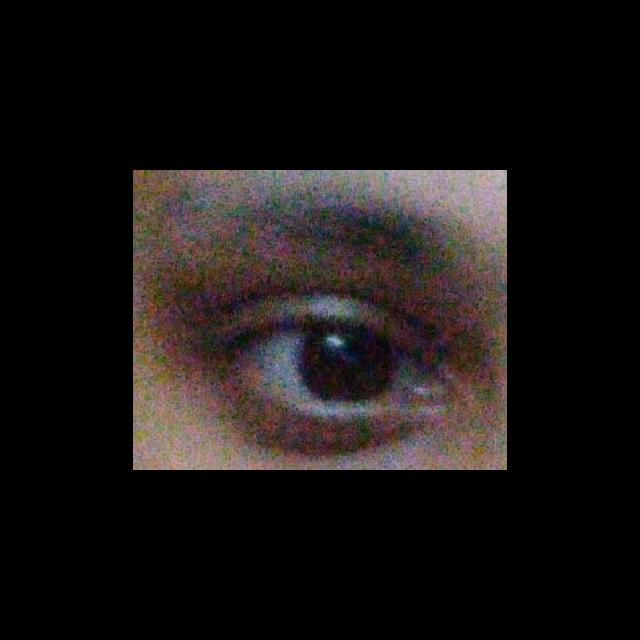eye: (236, 326, 428, 412)
iris: (298, 327, 398, 406)
